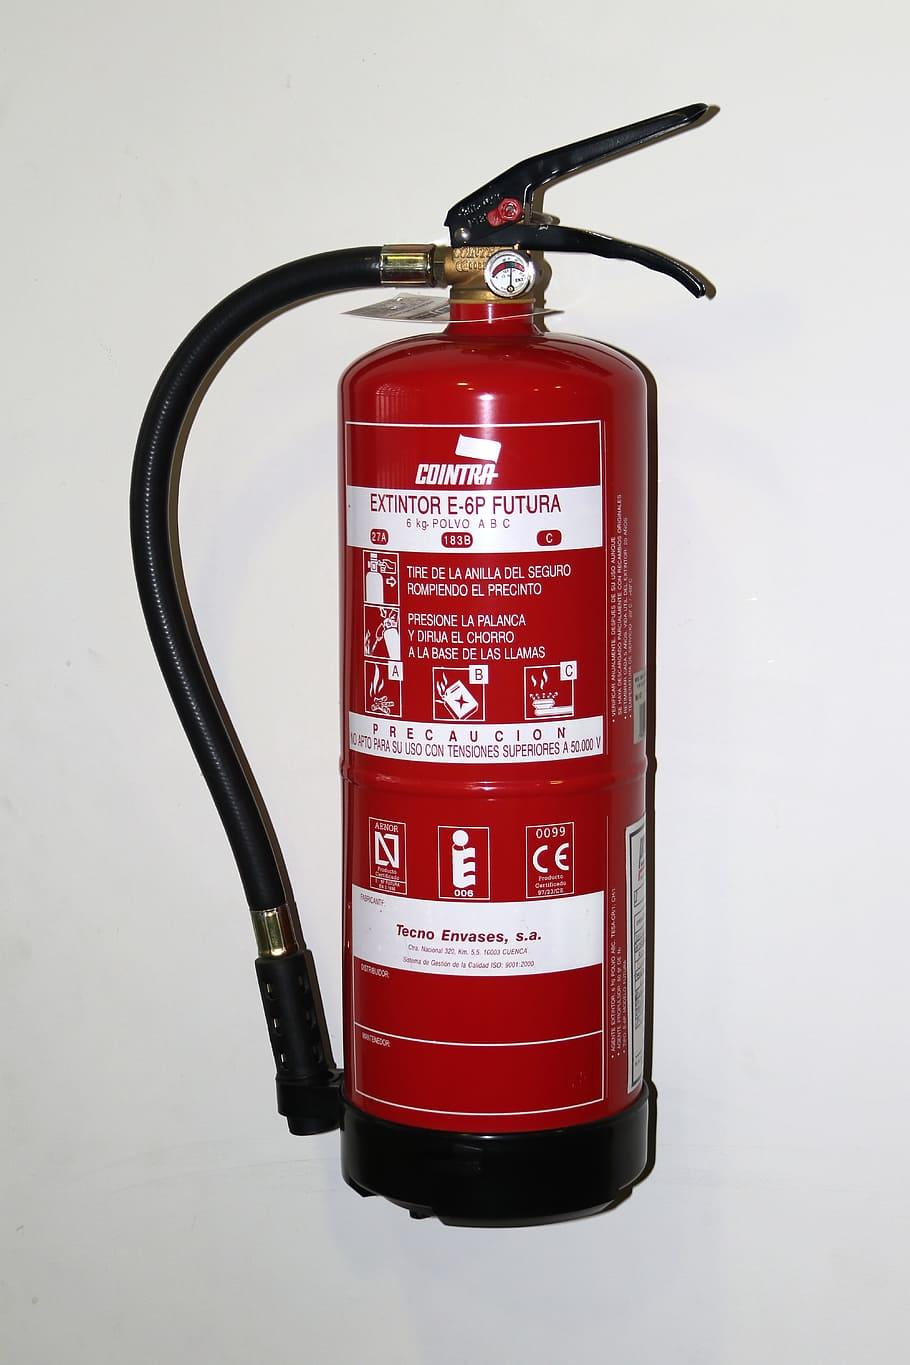Fire Extinguisher: (93, 63, 863, 1263)
